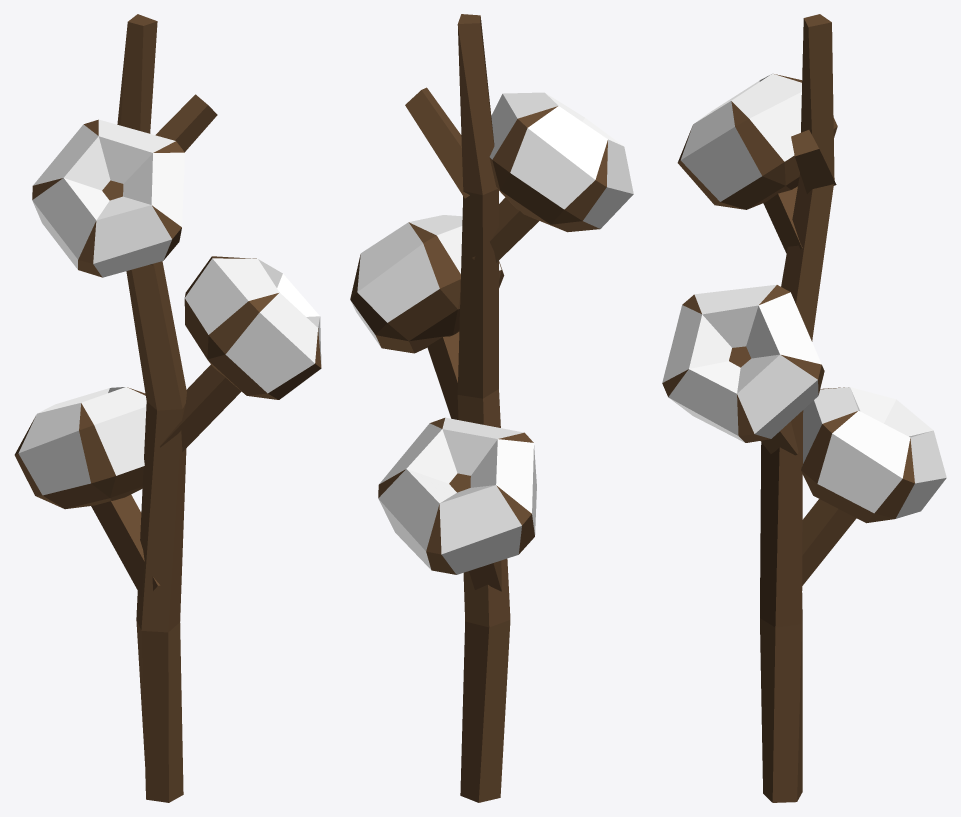
File: nature_cotton.fbx
The picture shows the model from 3 angles, left to right: view 1: azimuth 30°, elevation 25°; view 2: azimuth 150°, elevation 25°; view 3: azimuth 270°, elevation 25°; orthographic projection. The views are drawn at different scales.
Parts seen in each view (by area): view 1: nature_cotton; view 2: nature_cotton; view 3: nature_cotton.
Boxes of the visible parts, x1,y1,x2,y2 form: nature_cotton: [14, 14, 321, 802]; nature_cotton: [350, 14, 633, 802]; nature_cotton: [662, 14, 946, 802].
Bounding box in the file's own units: 71.63 × 200 × 66.75.
